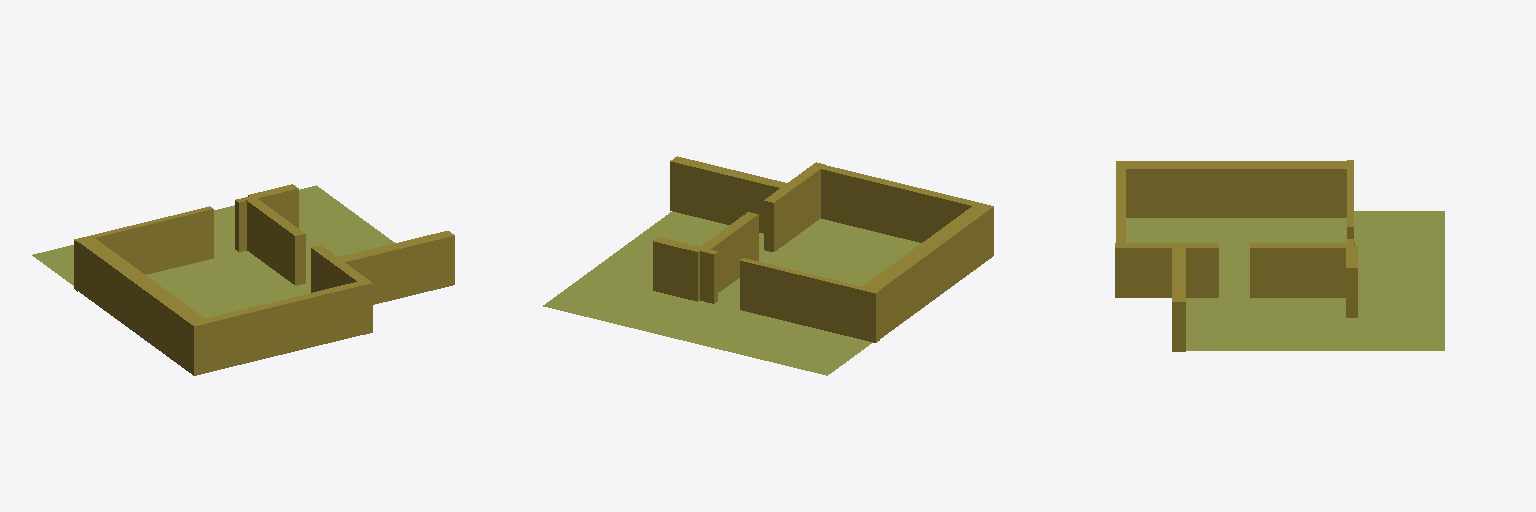
File: room.obj
3 views of the same model, side by side, from view 1: azimuth 30°, elevation 25°; view 2: azimuth 150°, elevation 25°; view 3: azimuth 270°, elevation 25° (orthographic).
Parts seen in each view (by area): view 1: floor_1_library_Cube41, floor_1_library_Cube50, floor_1_library_Plane11, floor_1_library_Cube55, floor_1_hallway_1_Cube69, floor_1_hallway_1_Cube67, floor_1_hallway_2_Plane22, floor_1_hallway_1_Plane20, floor_1_hallway_1_Cube68, floor_1_stairway_room_Plane19, floor_1_hallway_2_Cube64, floor_1_library_Cube60; view 2: floor_1_stairway_room_Plane19, floor_1_library_Cube41, floor_1_library_Cube55, floor_1_library_Cube50, floor_1_library_Plane11, floor_1_hallway_1_Cube69, floor_1_hallway_2_Plane22, floor_1_hallway_1_Plane20, floor_1_hallway_1_Cube68, floor_1_hallway_1_Cube67, floor_1_hallway_2_Cube64, floor_1_library_Cube60; view 3: floor_1_library_Cube41, floor_1_hallway_1_Plane20, floor_1_stairway_room_Plane19, floor_1_library_Plane11, floor_1_hallway_1_Cube67, floor_1_hallway_2_Plane22, floor_1_hallway_1_Cube68, floor_1_hallway_1_Cube69, floor_1_hallway_2_Cube64, floor_1_library_Cube50, floor_1_library_Cube55.
Boxes of the visible parts, <box> form: floor_1_library_Cube41: <box>78,238,210,375</box>; floor_1_library_Cube50: <box>201,280,369,371</box>; floor_1_library_Plane11: <box>146,251,308,318</box>; floor_1_library_Cube55: <box>74,206,213,291</box>; floor_1_hallway_1_Cube69: <box>338,231,454,304</box>; floor_1_hallway_1_Cube67: <box>243,196,305,285</box>; floor_1_hallway_2_Plane22: <box>214,185,361,237</box>; floor_1_hallway_1_Plane20: <box>298,219,394,292</box>; floor_1_hallway_1_Cube68: <box>311,245,372,334</box>; floor_1_stairway_room_Plane19: <box>32,223,237,285</box>; floor_1_hallway_2_Cube64: <box>248,184,298,227</box>; floor_1_library_Cube60: <box>235,198,246,251</box>; floor_1_stairway_room_Plane19: <box>658,302,872,375</box>; floor_1_library_Cube41: <box>863,202,993,338</box>; floor_1_library_Cube55: <box>740,258,879,342</box>; floor_1_library_Cube50: <box>813,163,976,242</box>; floor_1_library_Plane11: <box>718,218,920,306</box>; floor_1_hallway_1_Cube69: <box>670,156,786,233</box>; floor_1_hallway_2_Plane22: <box>543,273,703,333</box>; floor_1_hallway_1_Plane20: <box>588,211,770,288</box>; floor_1_hallway_1_Cube68: <box>764,162,824,251</box>; floor_1_hallway_1_Cube67: <box>700,212,758,301</box>; floor_1_hallway_2_Cube64: <box>653,237,702,301</box>; floor_1_library_Cube60: <box>706,250,717,303</box>; floor_1_library_Cube41: <box>1116,161,1346,217</box>; floor_1_hallway_1_Plane20: <box>1186,294,1356,350</box>; floor_1_stairway_room_Plane19: <box>1354,211,1444,293</box>; floor_1_library_Plane11: <box>1126,218,1346,293</box>; floor_1_hallway_1_Cube67: <box>1250,243,1353,297</box>; floor_1_hallway_2_Plane22: <box>1354,294,1444,350</box>; floor_1_hallway_1_Cube68: <box>1115,243,1218,297</box>; floor_1_hallway_1_Cube69: <box>1172,248,1185,351</box>; floor_1_hallway_2_Cube64: <box>1346,246,1357,317</box>; floor_1_library_Cube50: <box>1116,169,1125,242</box>; floor_1_library_Cube55: <box>1347,160,1353,238</box>.
Size of the model in its own units: 21.89 by 3.57 by 21.6.